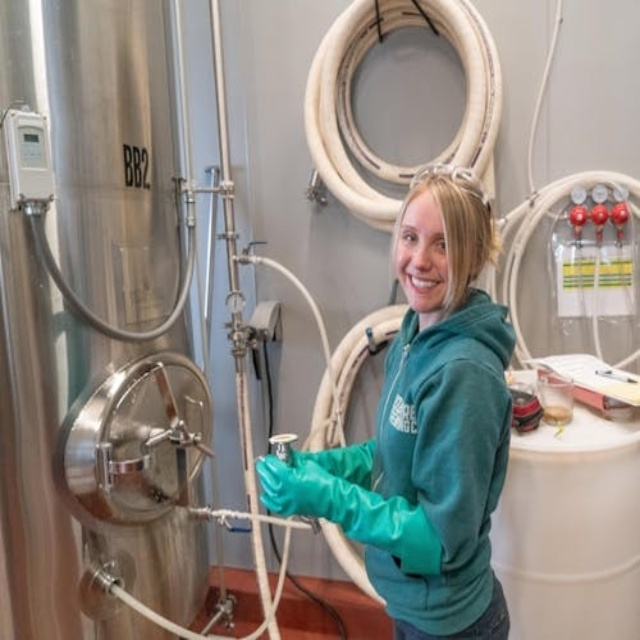Guantes: (294, 439, 376, 486), (255, 452, 308, 519)
Sin_gafas: (397, 221, 448, 259)
Sin_mascara: (402, 271, 444, 311)
